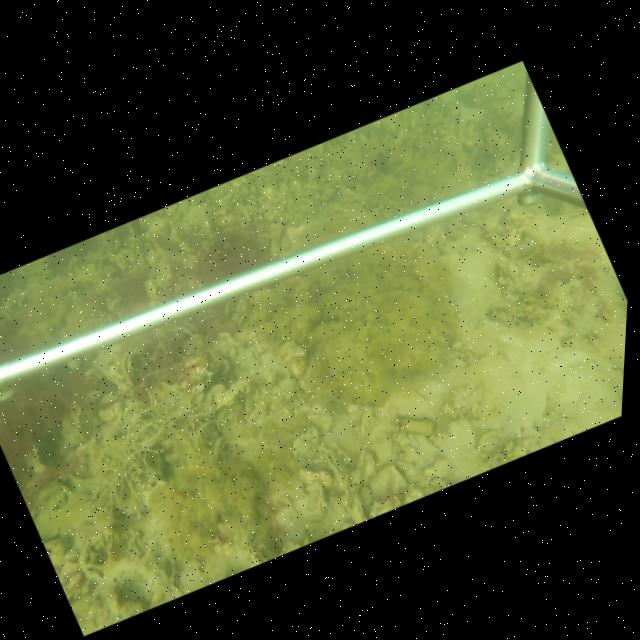Oyster-Closed: (294, 479, 328, 521), (325, 449, 352, 495), (353, 404, 375, 448), (349, 482, 369, 523), (355, 450, 375, 487), (306, 409, 335, 432), (296, 381, 304, 404), (346, 489, 355, 509)
